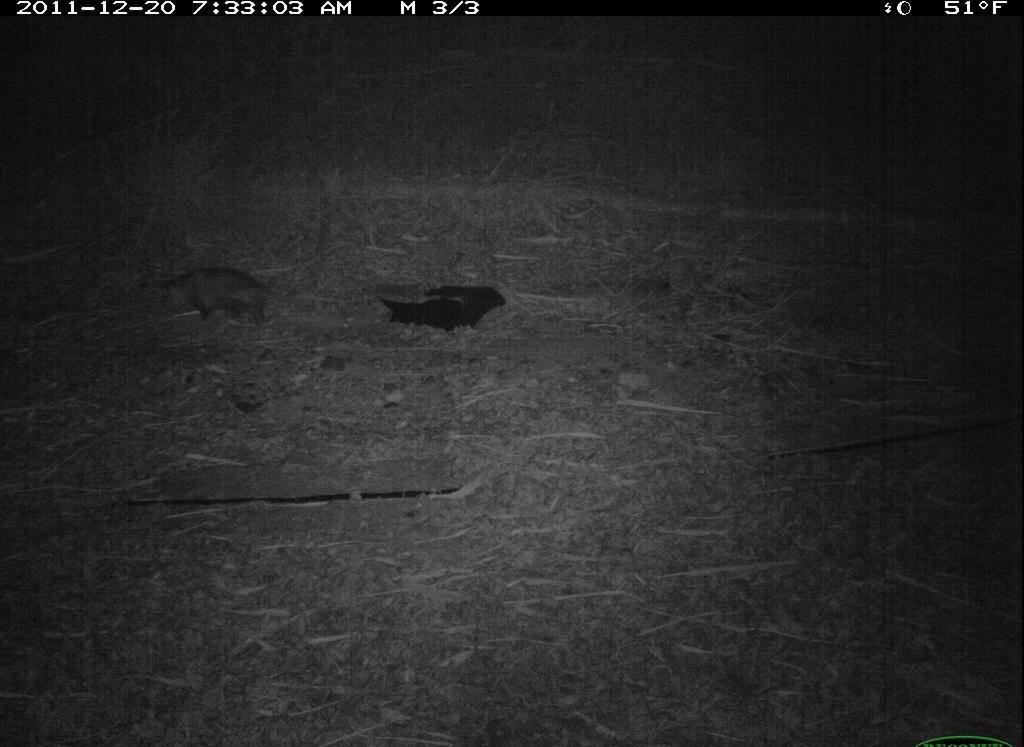opossum: (154, 263, 296, 331)
